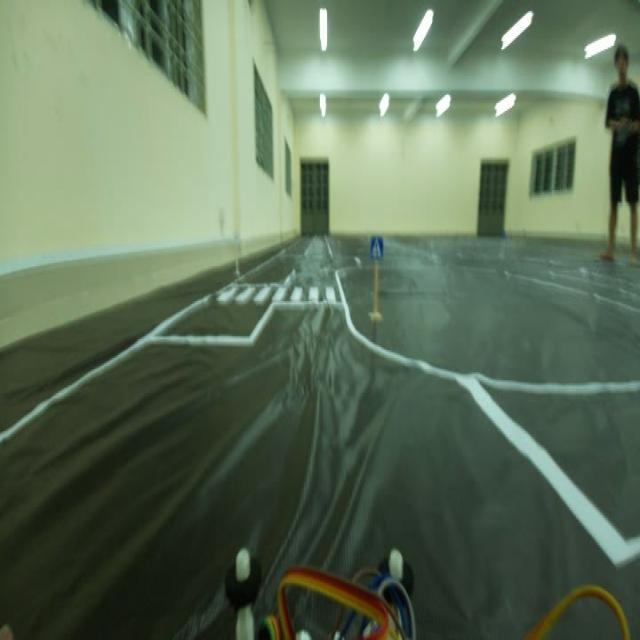crosswalk: (368, 229, 390, 273)
